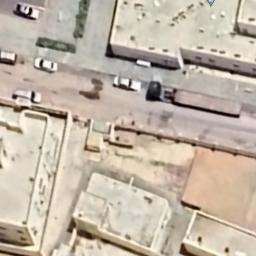SUV: (13, 2, 39, 20)
pickup: (112, 76, 142, 92)
sedan: (34, 58, 58, 72)
truck: (146, 81, 244, 117), (12, 90, 43, 104), (0, 51, 16, 63)
